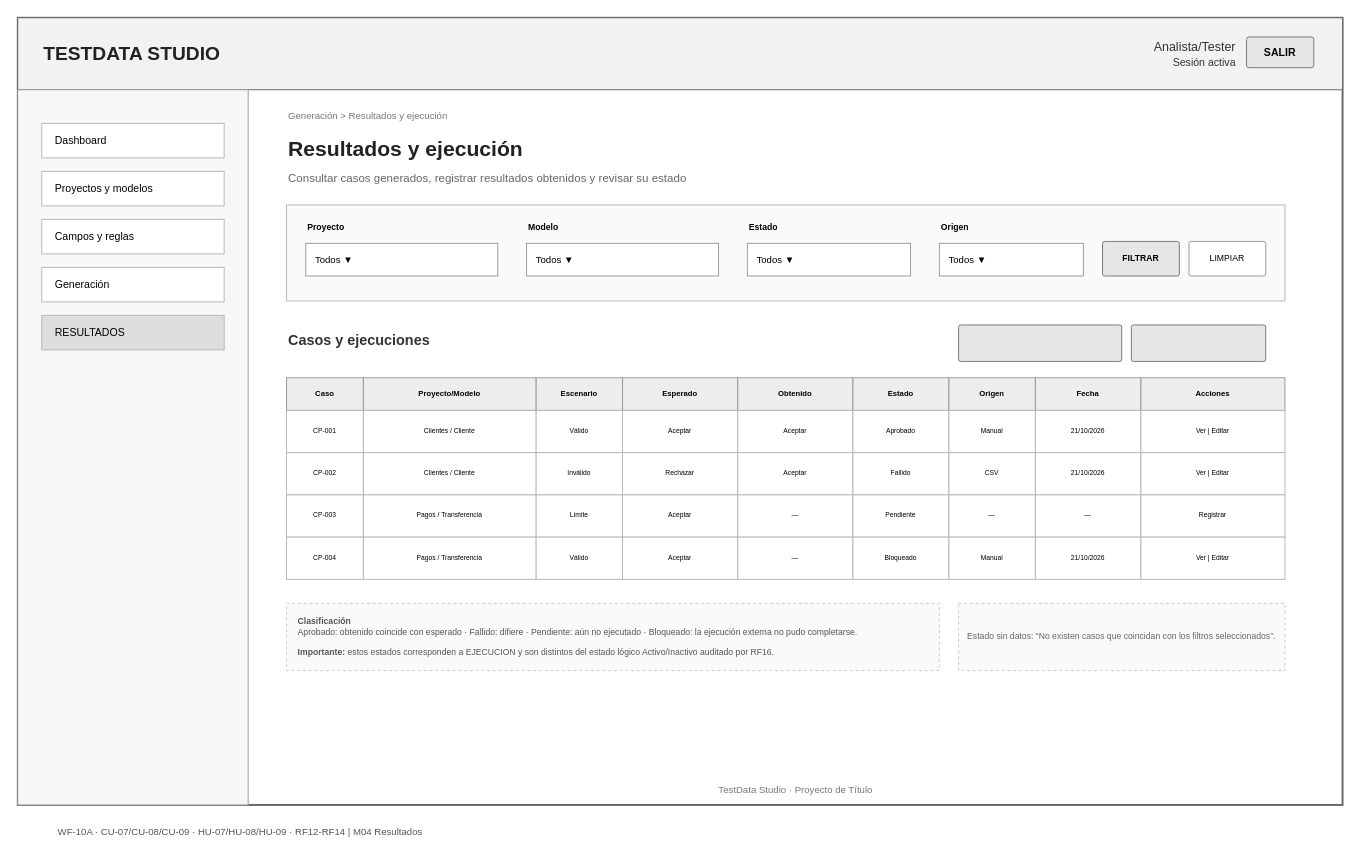
Image size: 1359x859. Some labels were removed from this diagram. The shapes that lost their labels are listed below. From the top down, each one's centre as x and y in pixels, then its label:
At pixel 1040 342: "+ REGISTRAR RESULTADO".
At pixel 1198 342: "IMPORTAR CSV".
